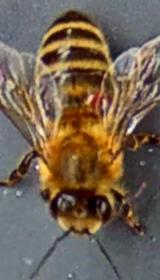varroa_mite: (74, 85, 111, 122)
